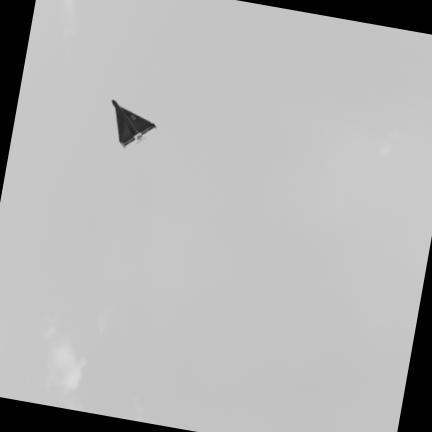Shahed: (112, 100, 155, 147)
